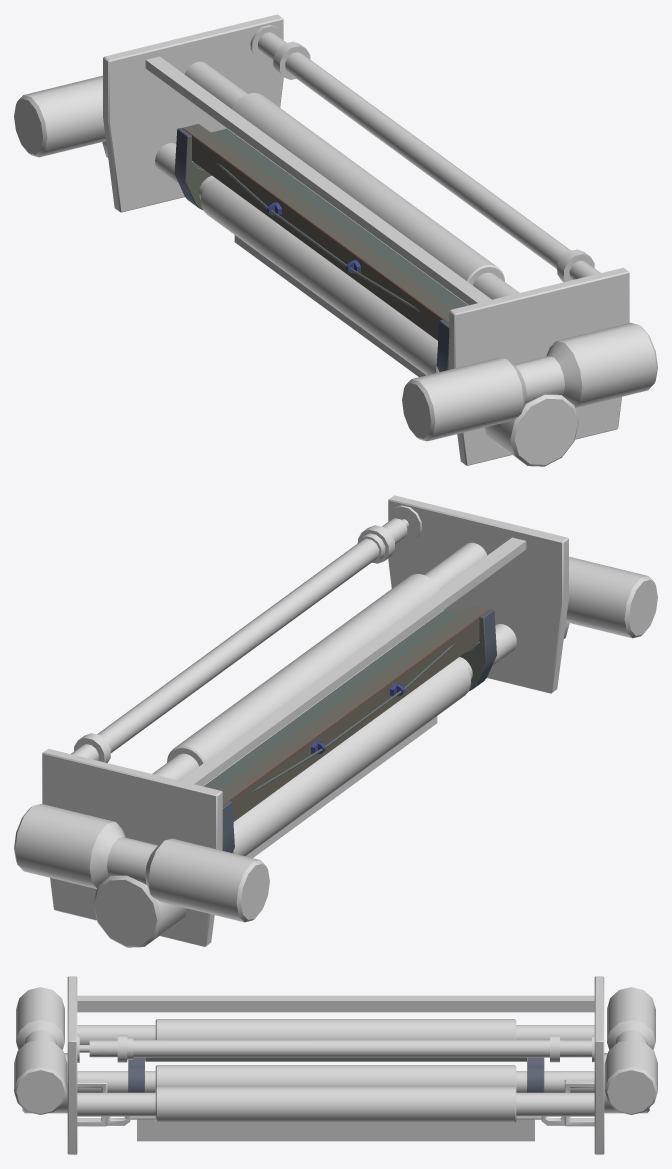
The model's file is Cradle_03.fbx.
3 views of the same model, one above another, from view 1: azimuth 30°, elevation 25°; view 2: azimuth 150°, elevation 25°; view 3: azimuth 270°, elevation 25° (orthographic). The views are drawn at different scales.
Parts seen in each view (by area): view 1: Cradle_03, Pincher_03, Spindle_03; view 2: Cradle_03, Pincher_03, Spindle_03; view 3: Cradle_03, Pincher_03.
Part boxes in pixels (x1,y1,x2,y2): Cradle_03: (14, 14, 657, 466); Pincher_03: (174, 124, 468, 371); Spindle_03: (215, 162, 420, 312); Cradle_03: (14, 495, 657, 947); Pincher_03: (203, 605, 496, 852); Spindle_03: (251, 643, 456, 793); Cradle_03: (14, 976, 657, 1154); Pincher_03: (128, 1057, 544, 1092).
Size of the model in its own units: 85.13 by 61.13 by 269.
